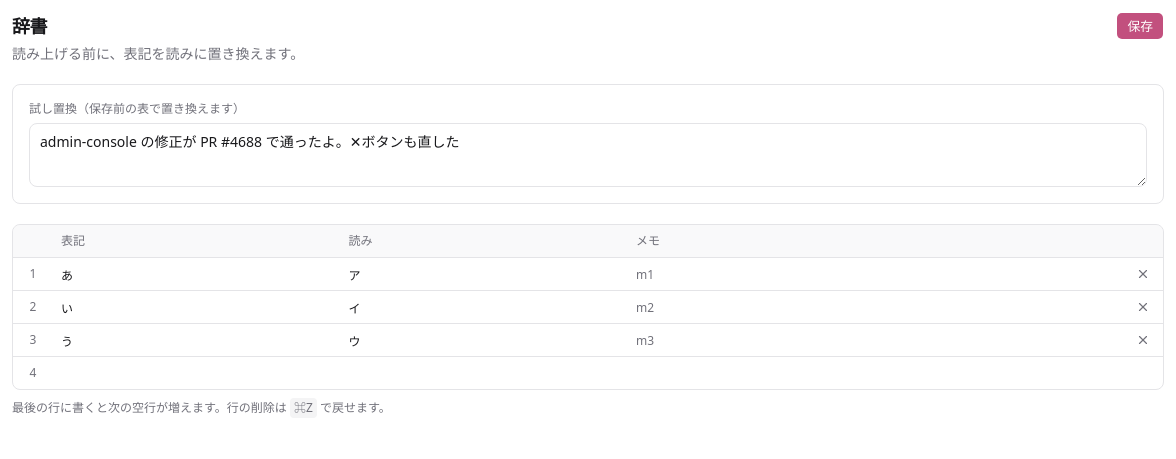
Test: 保存に失敗しても編集内容は画面に残り、ステータス行に赤字が出る
Replace the text in the field showing "あ" with "あ2" at (197, 274), box x1=53 y1=258 x2=340 y2=290
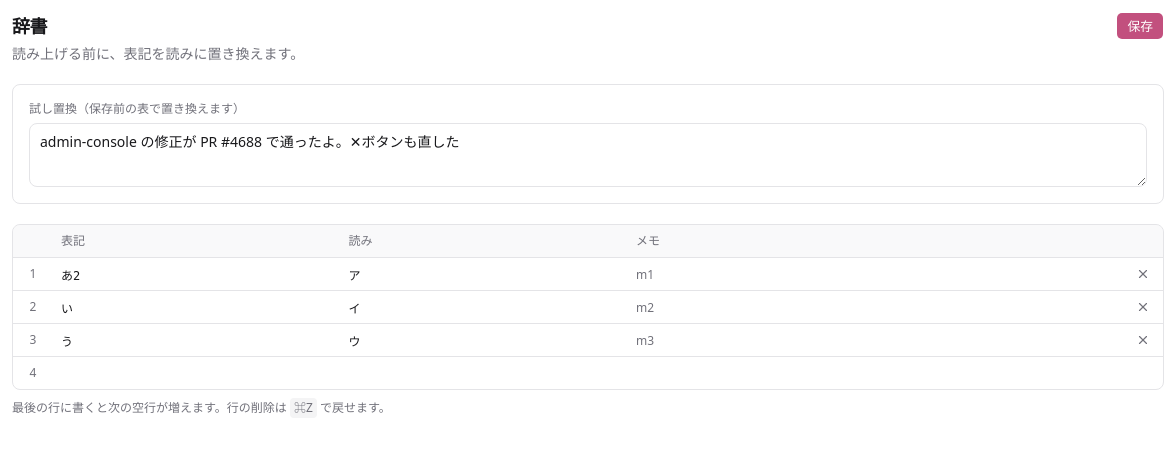
Click the button "保存" at (1140, 26), box x1=1116 y1=12 x2=1164 y2=40
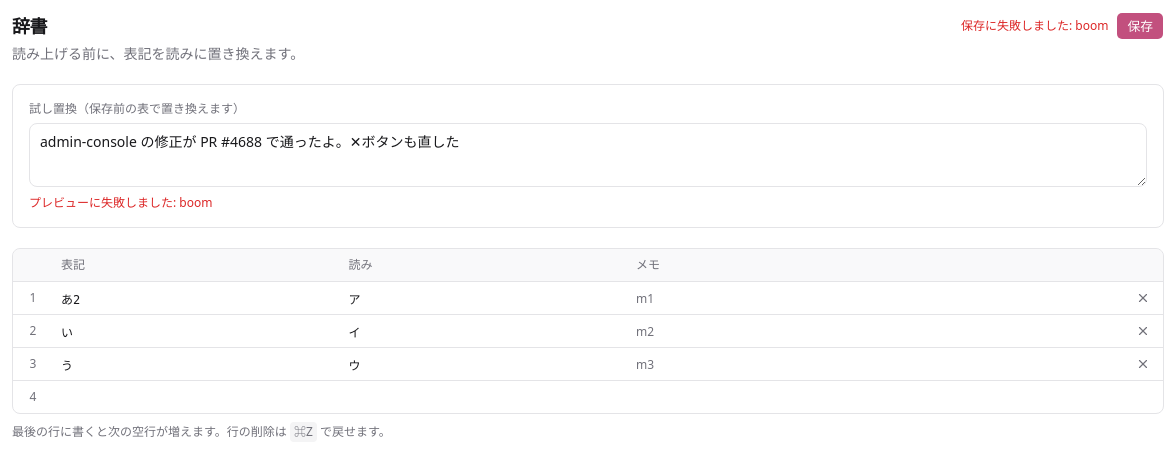
Now the text "保存に失敗しました: boom" is shown, box x1=961 y1=18 x2=1108 y2=34
